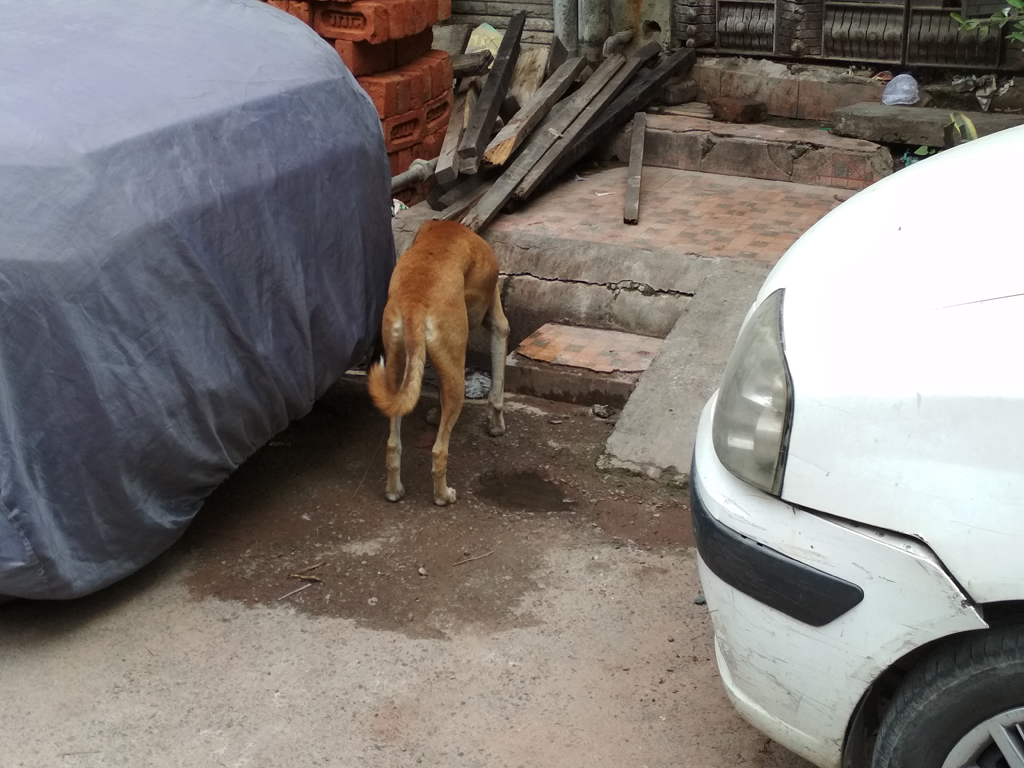dog: (365, 220, 513, 507)
